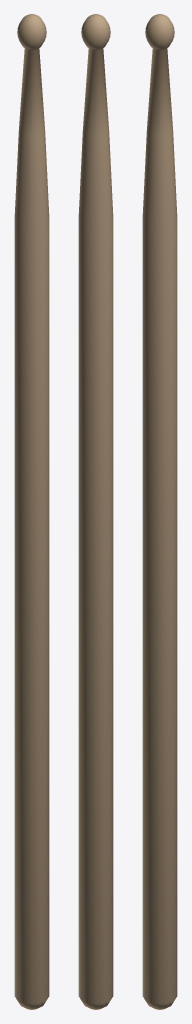
File: drumstick-by-jeremy-0asfS0AAh3w.glb
3 views of the same model, side by side, from view 1: azimuth 30°, elevation 25°; view 2: azimuth 150°, elevation 25°; view 3: azimuth 330°, elevation 25° (orthographic).
Visible parts, largest first — view 1: Drum_Stick_Q; view 2: Drum_Stick_Q; view 3: Drum_Stick_Q.
Part boxes in pixels (<box>): Drum_Stick_Q: <box>14,14,49,1009</box>; Drum_Stick_Q: <box>78,14,113,1009</box>; Drum_Stick_Q: <box>142,14,177,1009</box>.
Bounding box in the file's own units: 0.0131 × 0.4144 × 0.0131.
